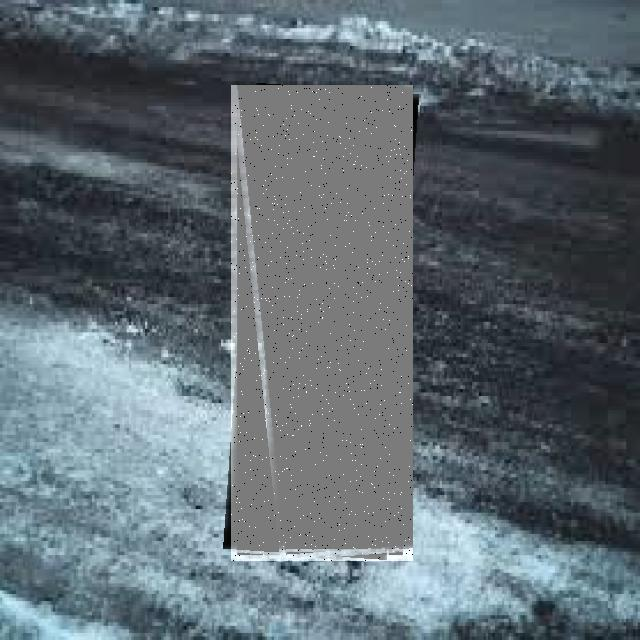Traffic-cone: (231, 85, 413, 561)
